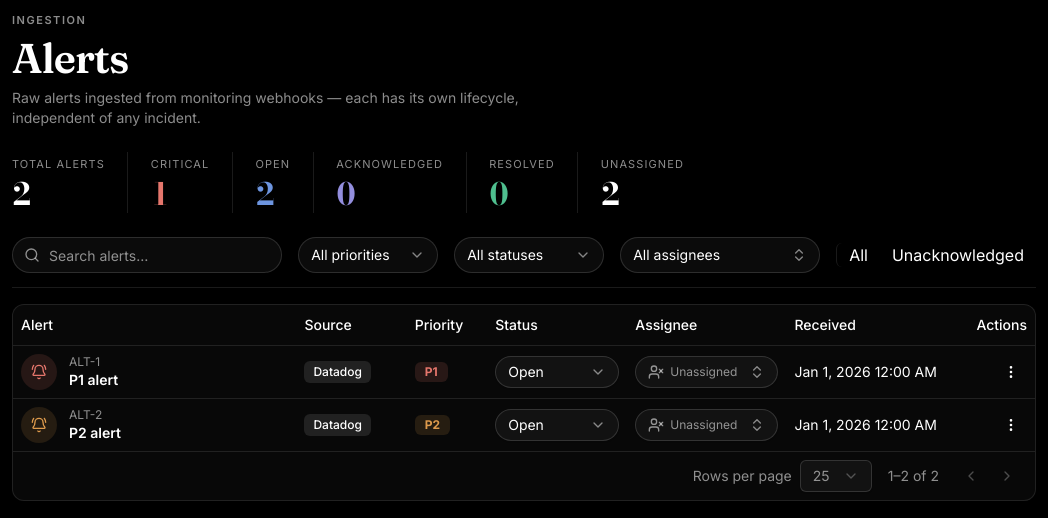
it: AlertsPage — filters › filters by priority
Click the dropdown labelled "All priorities". click: (368, 255)
box: [298,237,438,273]
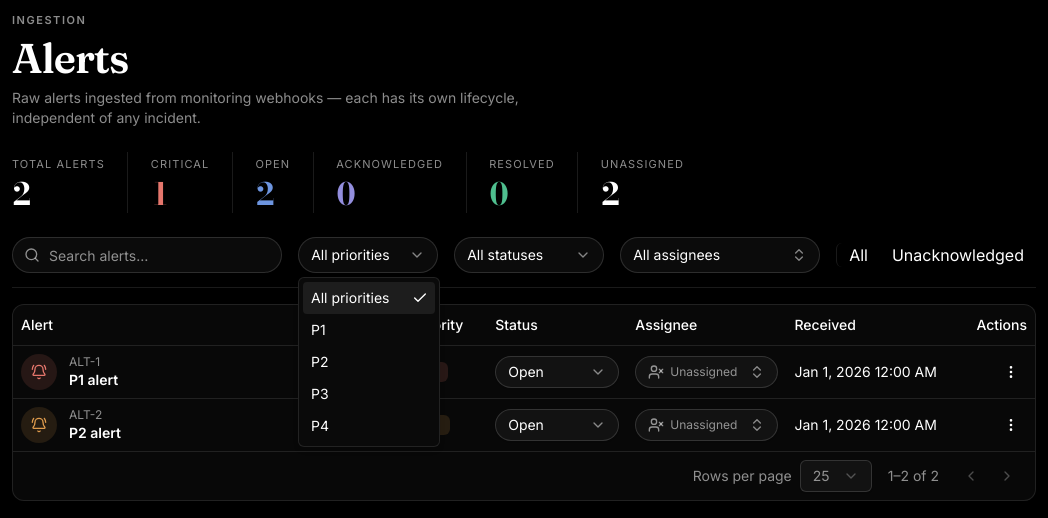
Click the option "P1". click: (318, 330)
box: [311,321,326,338]
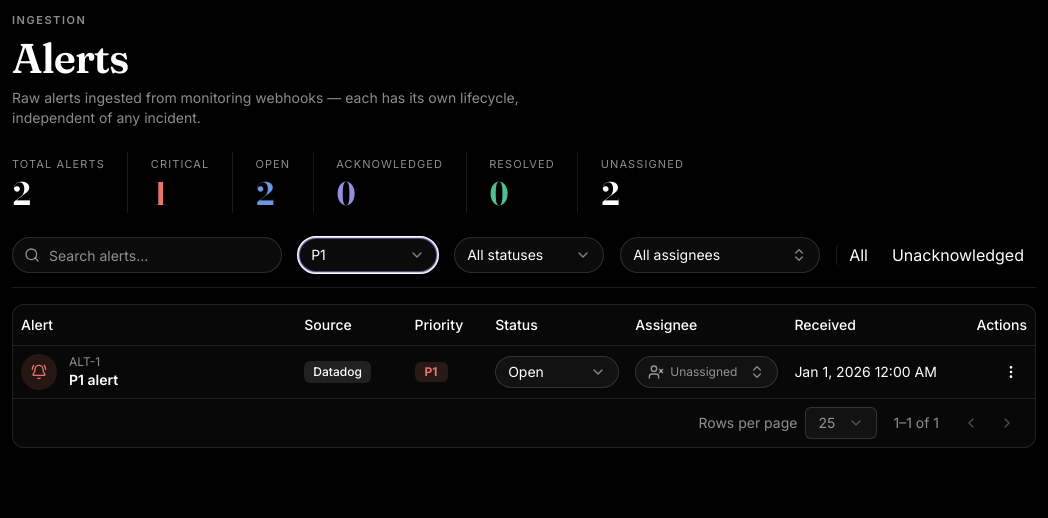
Expected: the text "P1 alert" is shown, [69,370,118,390]
Now the text "P2 alert" is gone
